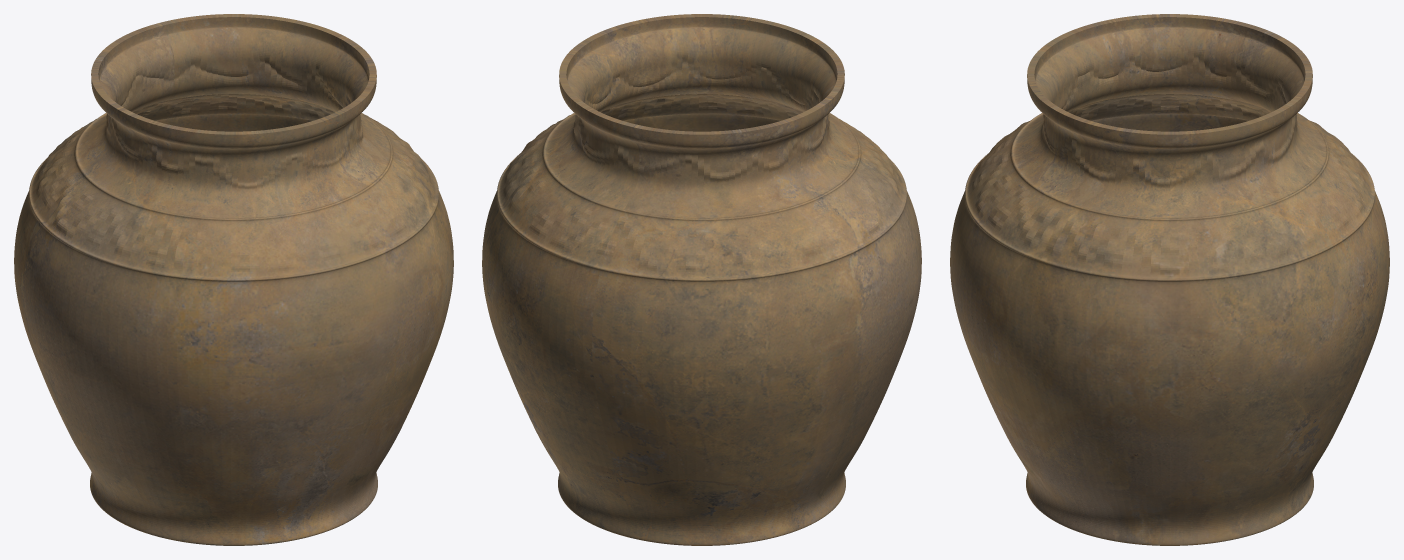
The model's file is obj_old_pottery_jar_30x30x31_b78751.glb.
The picture shows the model from 3 angles, left to right: view 1: azimuth 30°, elevation 25°; view 2: azimuth 150°, elevation 25°; view 3: azimuth 270°, elevation 25°; orthographic projection.
Parts seen in each view (by area): view 1: obj_old_pottery_jar_30x30x31_b78751; view 2: obj_old_pottery_jar_30x30x31_b78751; view 3: obj_old_pottery_jar_30x30x31_b78751.
Boxes of the visible parts, x1,y1,x2,y2 form: obj_old_pottery_jar_30x30x31_b78751: (14,14,453,545); obj_old_pottery_jar_30x30x31_b78751: (482,14,921,545); obj_old_pottery_jar_30x30x31_b78751: (950,14,1389,545).
Size of the model in its own units: 0.4843 by 0.5 by 0.4843.
1 material, 1 textured.
